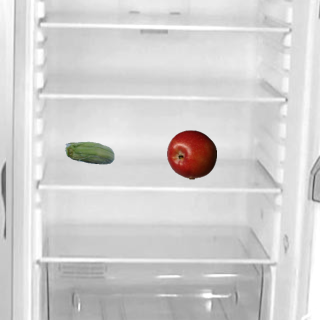Apple Braeburn: (166, 129, 216, 179)
Corn Husk: (64, 129, 114, 179)
